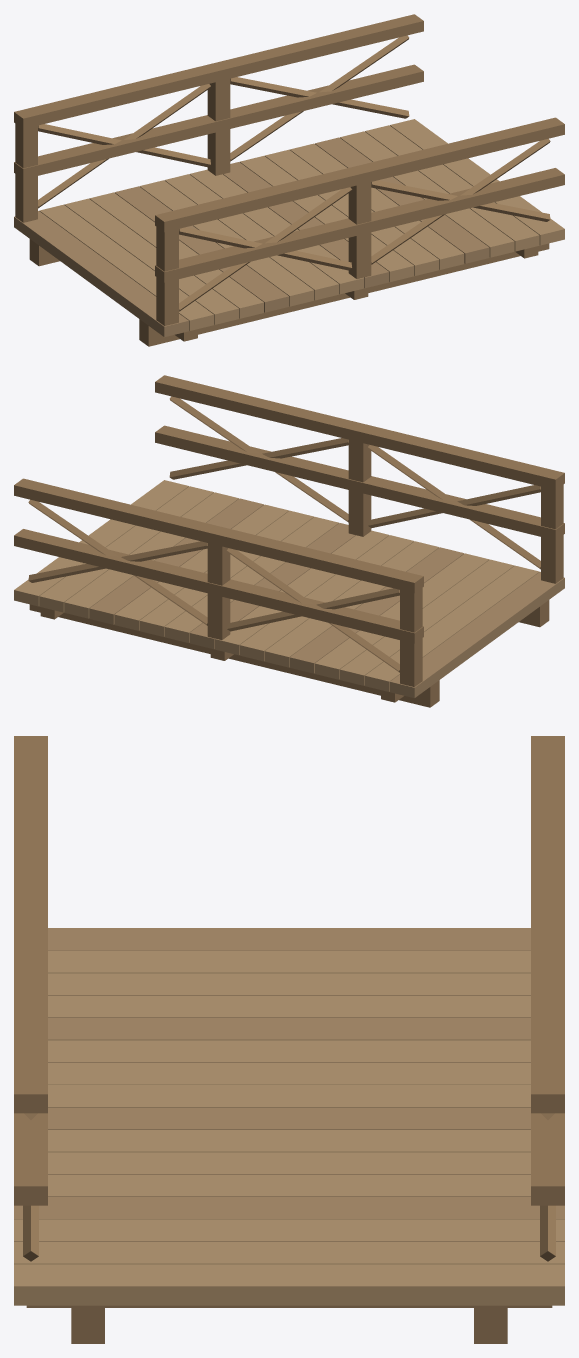
File: bridge_span_01.glb
3 renders of one model, top to bottom at view 1: azimuth 30°, elevation 25°; view 2: azimuth 150°, elevation 25°; view 3: azimuth 270°, elevation 25°, orthographic. The views are drawn at different scales.
Visible parts, largest first — view 1: Bridge_span_01; view 2: Bridge_span_01; view 3: Bridge_span_01.
Part boxes in pixels (<box>): Bridge_span_01: <box>14,14,564,346</box>; Bridge_span_01: <box>14,375,564,707</box>; Bridge_span_01: <box>14,736,564,1343</box>.
Bounding box in the file's own units: 4 × 1.3 × 2.6.
